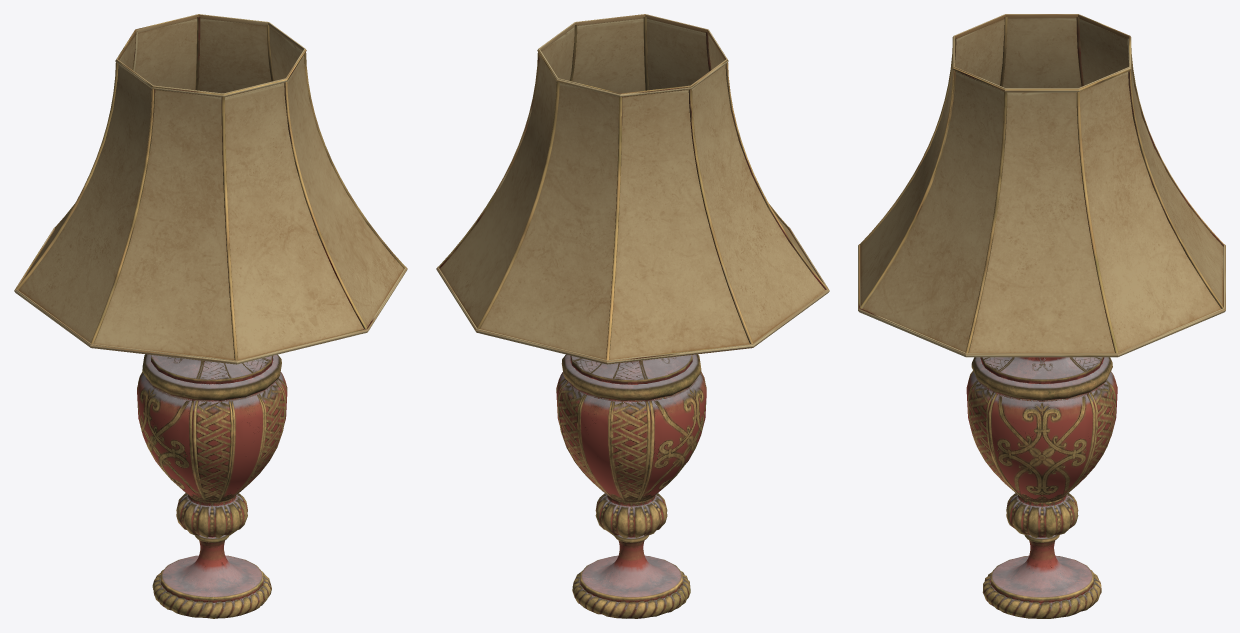
Rendered from SM_MansionLamp.fbx.
3 renders of one model, left to right at view 1: azimuth 30°, elevation 25°; view 2: azimuth 150°, elevation 25°; view 3: azimuth 270°, elevation 25°, orthographic.
Parts seen in each view (by area): view 1: SM_MansionLamp_LOD0; view 2: SM_MansionLamp_LOD0; view 3: SM_MansionLamp_LOD0.
Boxes of the visible parts, left/top/right/bottom form: SM_MansionLamp_LOD0: left=14, top=14, right=407, bottom=618; SM_MansionLamp_LOD0: left=436, top=14, right=829, bottom=618; SM_MansionLamp_LOD0: left=858, top=14, right=1225, bottom=618.
Size of the model in its own units: 42.99 by 42.99 by 70.14.
1 material, 1 textured.
